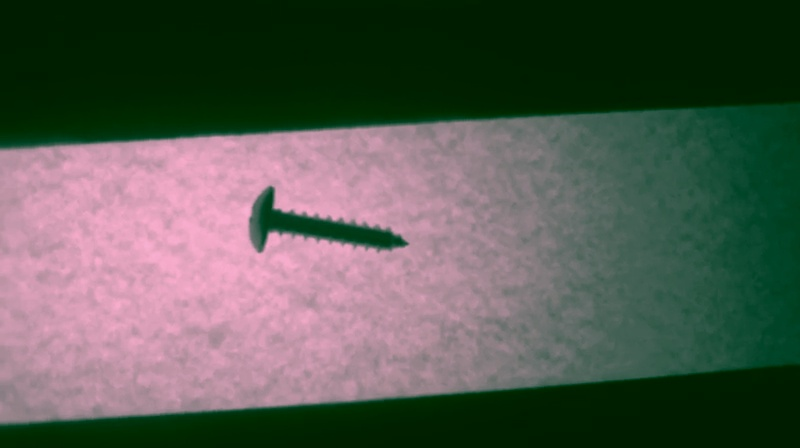S003: (245, 183, 410, 256)
